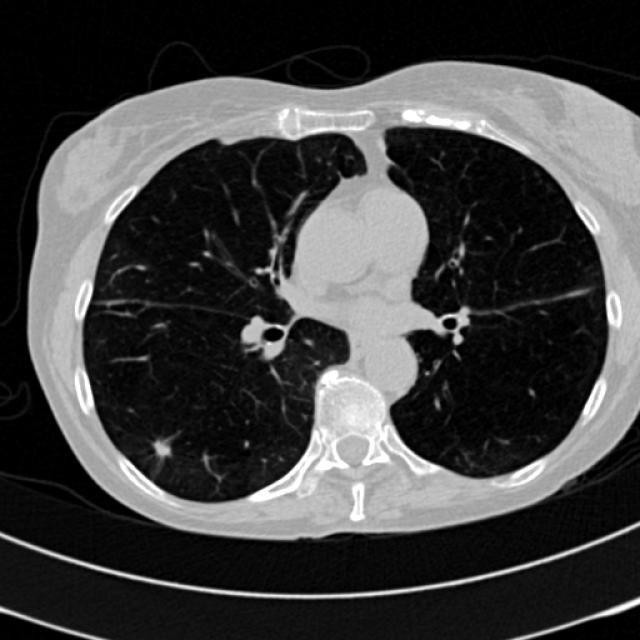nodule: (140, 428, 180, 468)
